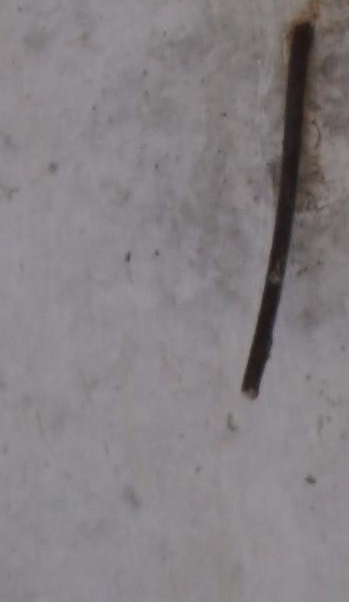Exposed reinforcement: (241, 21, 315, 401)
